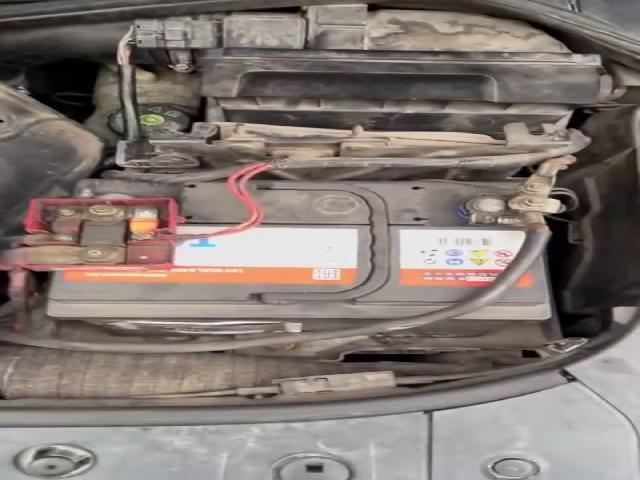accumulator: (0, 178, 570, 337)
